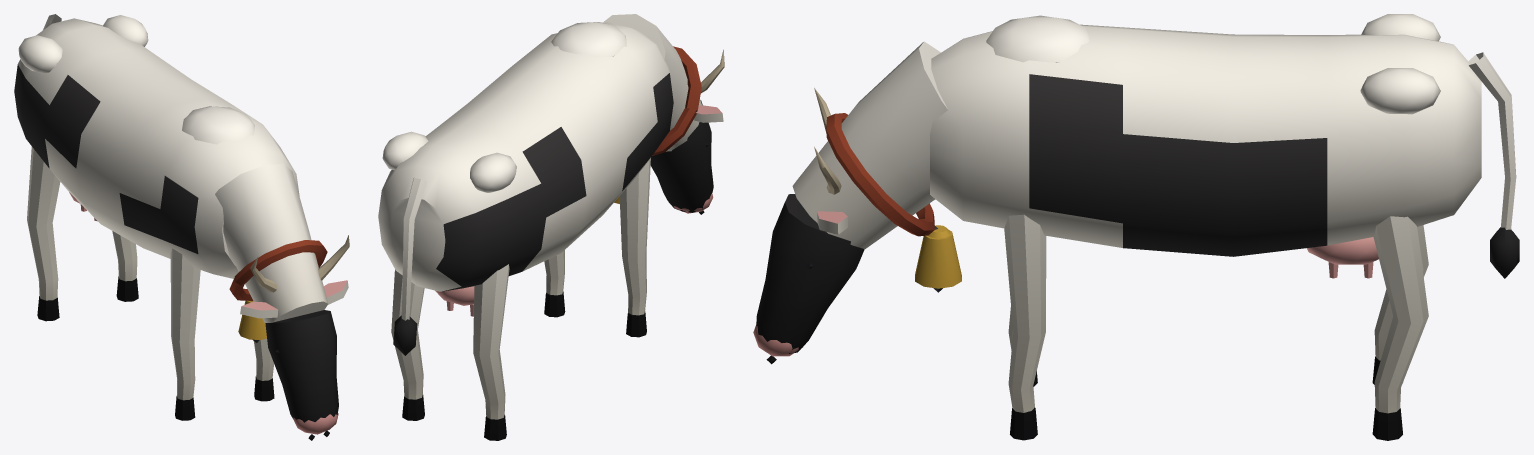
Rendered from Cow_B.fbx.
The picture shows the model from 3 angles, left to right: view 1: azimuth 30°, elevation 25°; view 2: azimuth 150°, elevation 25°; view 3: azimuth 270°, elevation 25°; orthographic projection. The views are drawn at different scales.
Visible parts, largest first — view 1: Cow_B_LOD0; view 2: Cow_B_LOD0; view 3: Cow_B_LOD0.
Part boxes in pixels (x1,y1,x2,y2): Cow_B_LOD0: (14,14,349,440); Cow_B_LOD0: (378,14,724,440); Cow_B_LOD0: (753,14,1519,440).
Size of what is drawn, in the model's own units: 0.74 by 1.46 by 2.64.
Materials: 1 (1 with a texture image).
